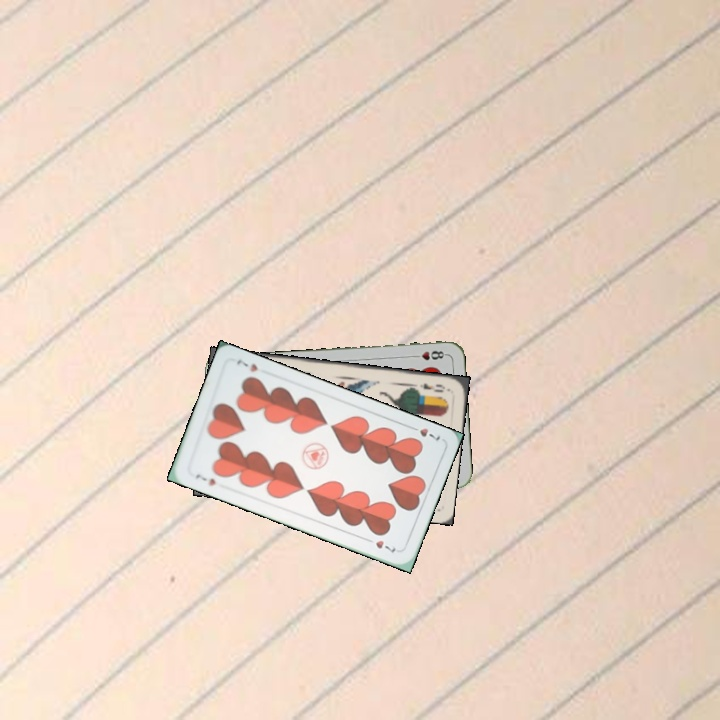EO: (416, 379, 448, 395)
H7: (405, 422, 443, 443), (192, 469, 218, 488)
H8: (408, 347, 448, 363)
